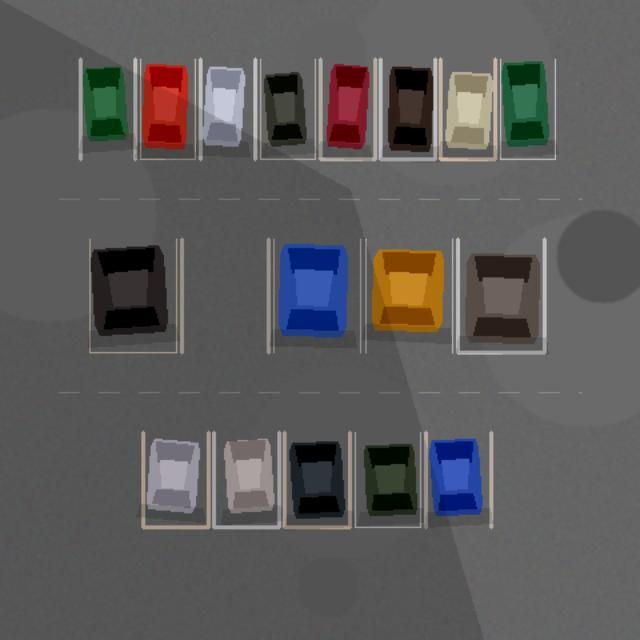space-empty: (181, 239, 268, 352)
space-occupied: (89, 239, 176, 352), (273, 239, 360, 352), (365, 239, 452, 352), (457, 239, 544, 352), (213, 432, 279, 527), (425, 432, 491, 527), (143, 432, 208, 527), (284, 432, 349, 527), (355, 432, 420, 527), (80, 59, 135, 159), (140, 59, 195, 159), (200, 59, 255, 159), (260, 59, 315, 159), (320, 59, 375, 159), (380, 59, 435, 159), (440, 59, 495, 159), (500, 59, 555, 159)
